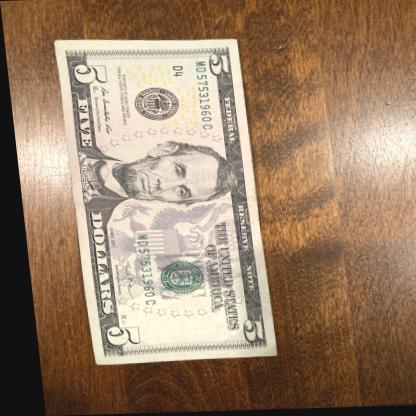five-front: (52, 35, 272, 365)
